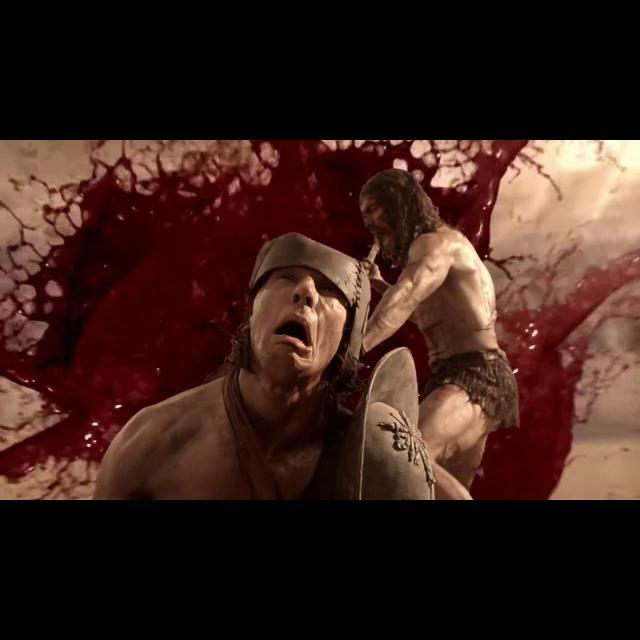blood: (0, 140, 640, 499)
